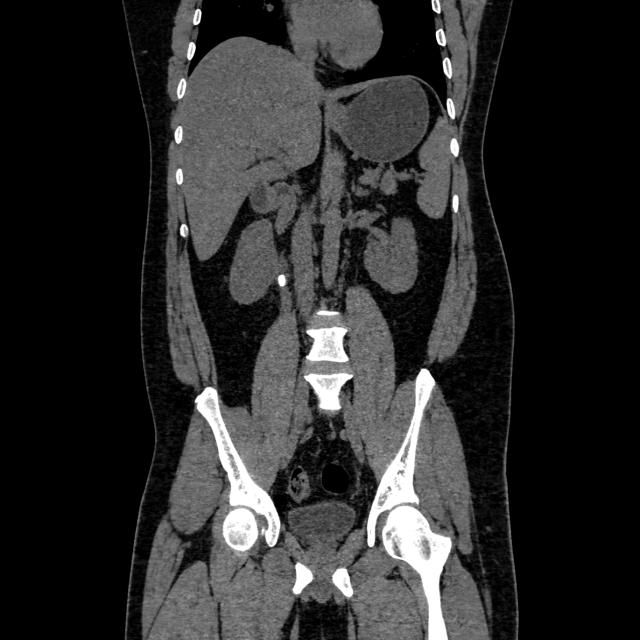kidneystone: (278, 273, 286, 287)
